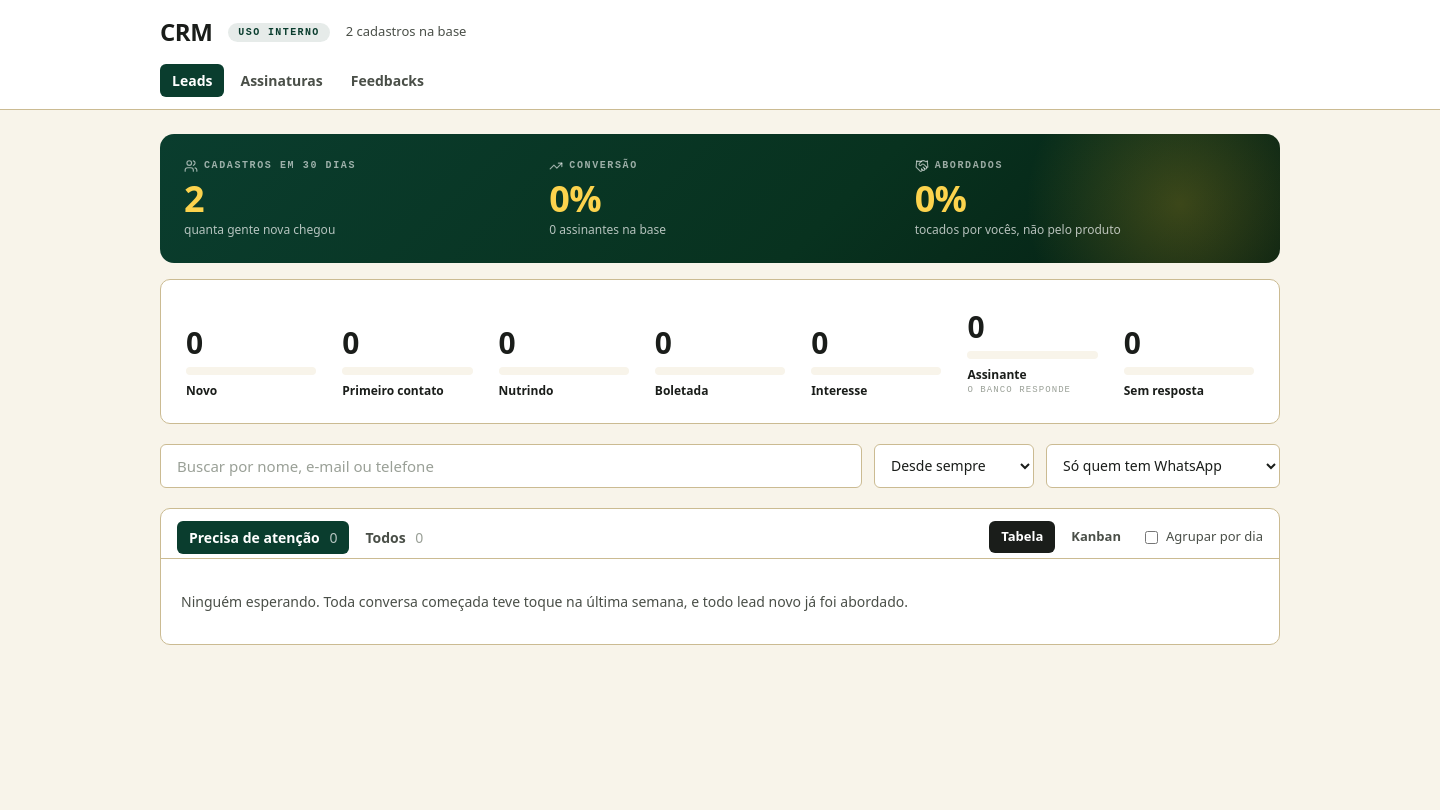
Test: PainelCrm · o filtro de WhatsApp › a marca na mão esconde quem tem número bom
The image size is (1440, 810).
Check: the text "Da Para Falar" is not shown
Select "Só quem não tem WhatsApp" in the dropdown named "filtrar por whatsapp" at (1163, 466), box 1046,444 -> 1280,488
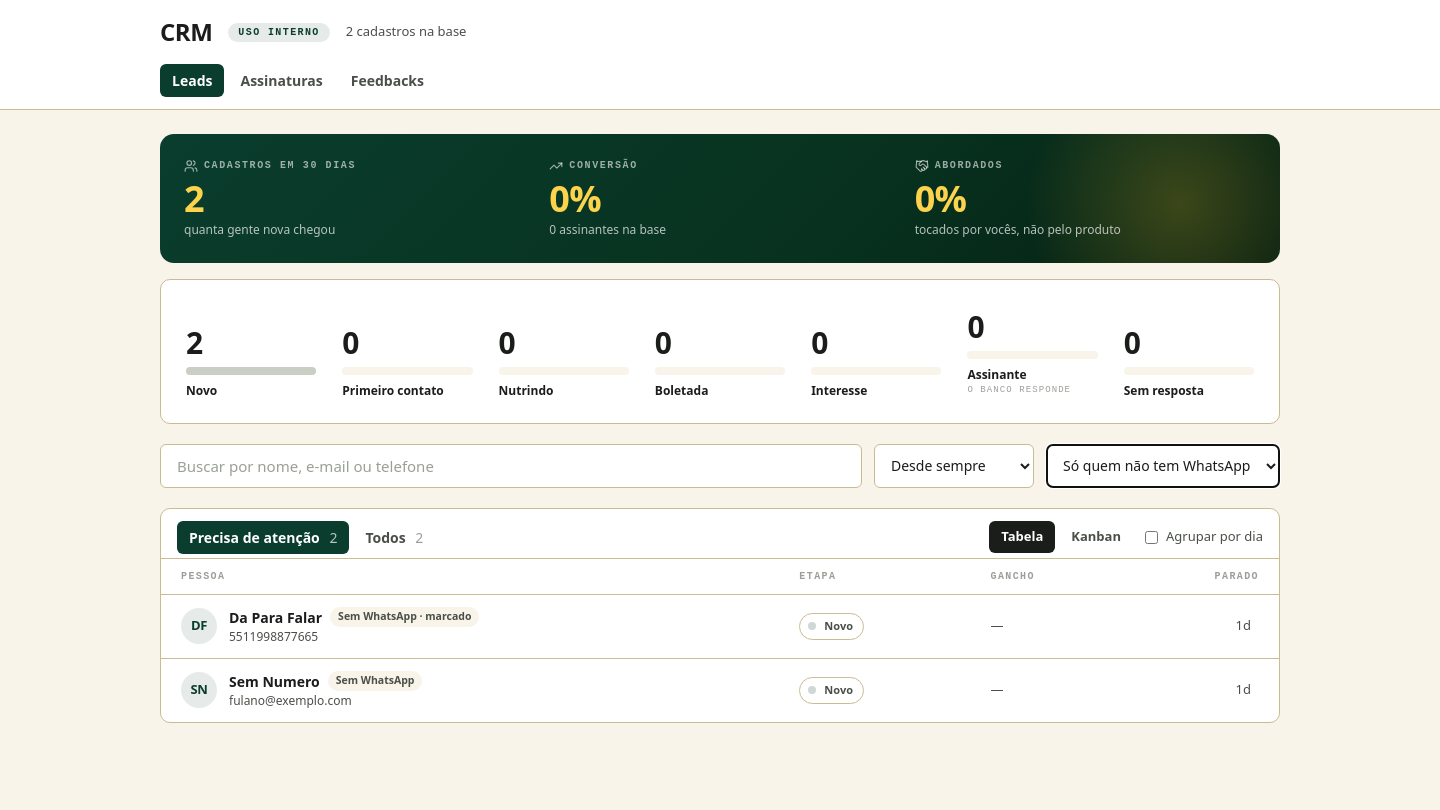
Check: the link "Da Para Falar" is shown, box 229,606 -> 322,628
